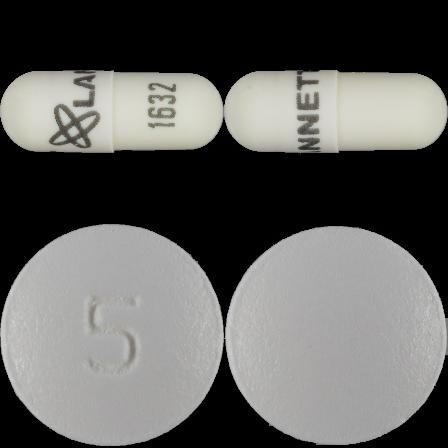60760-535: (0, 0, 224, 224)
